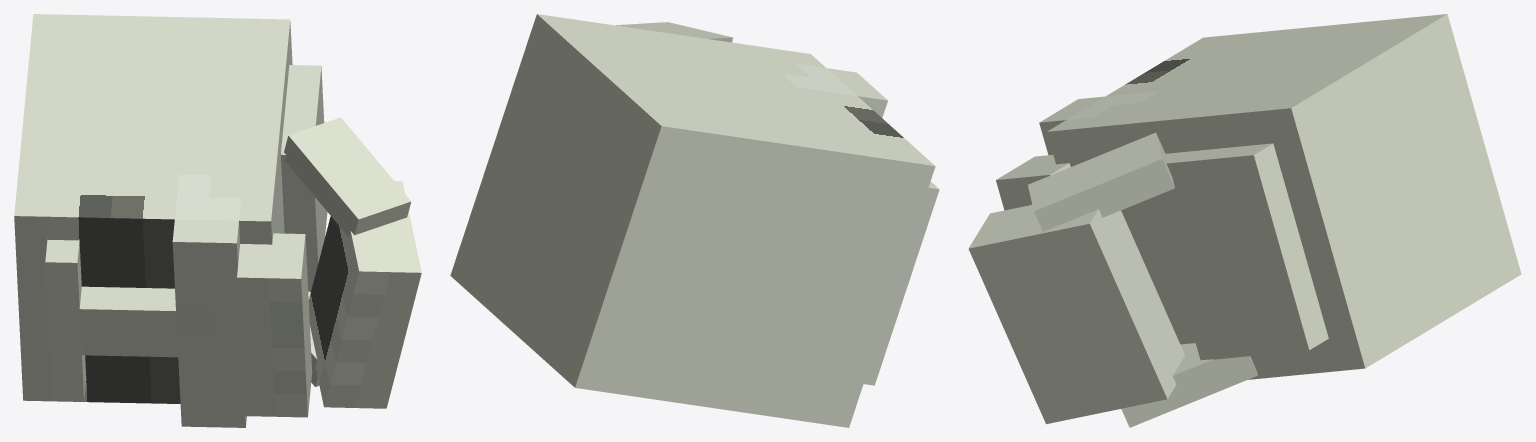
Rendered from corpse.glb.
The picture shows the model from 3 angles, left to right: view 1: azimuth 30°, elevation 25°; view 2: azimuth 150°, elevation 25°; view 3: azimuth 270°, elevation 25°; orthographic projection. The views are drawn at different scales.
Parts seen in each view (by area): view 1: skull, jaw; view 2: skull, jaw; view 3: skull, jaw.
Boxes of the visible parts, box(x1,y1,x2,y2) form: skull: box(14, 14, 327, 427); jaw: box(284, 117, 421, 408); skull: box(450, 14, 939, 427); jaw: box(616, 22, 732, 42); skull: box(996, 14, 1521, 379); jaw: box(968, 132, 1257, 427).
Size of the model in its own units: 0.8141 by 0.6802 by 0.9959.
Materials: 1 (1 with a texture image).
